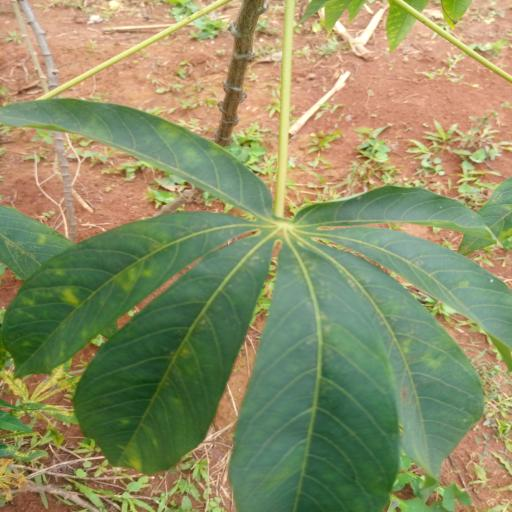Cassava_Mosaic: (0, 99, 512, 512)
